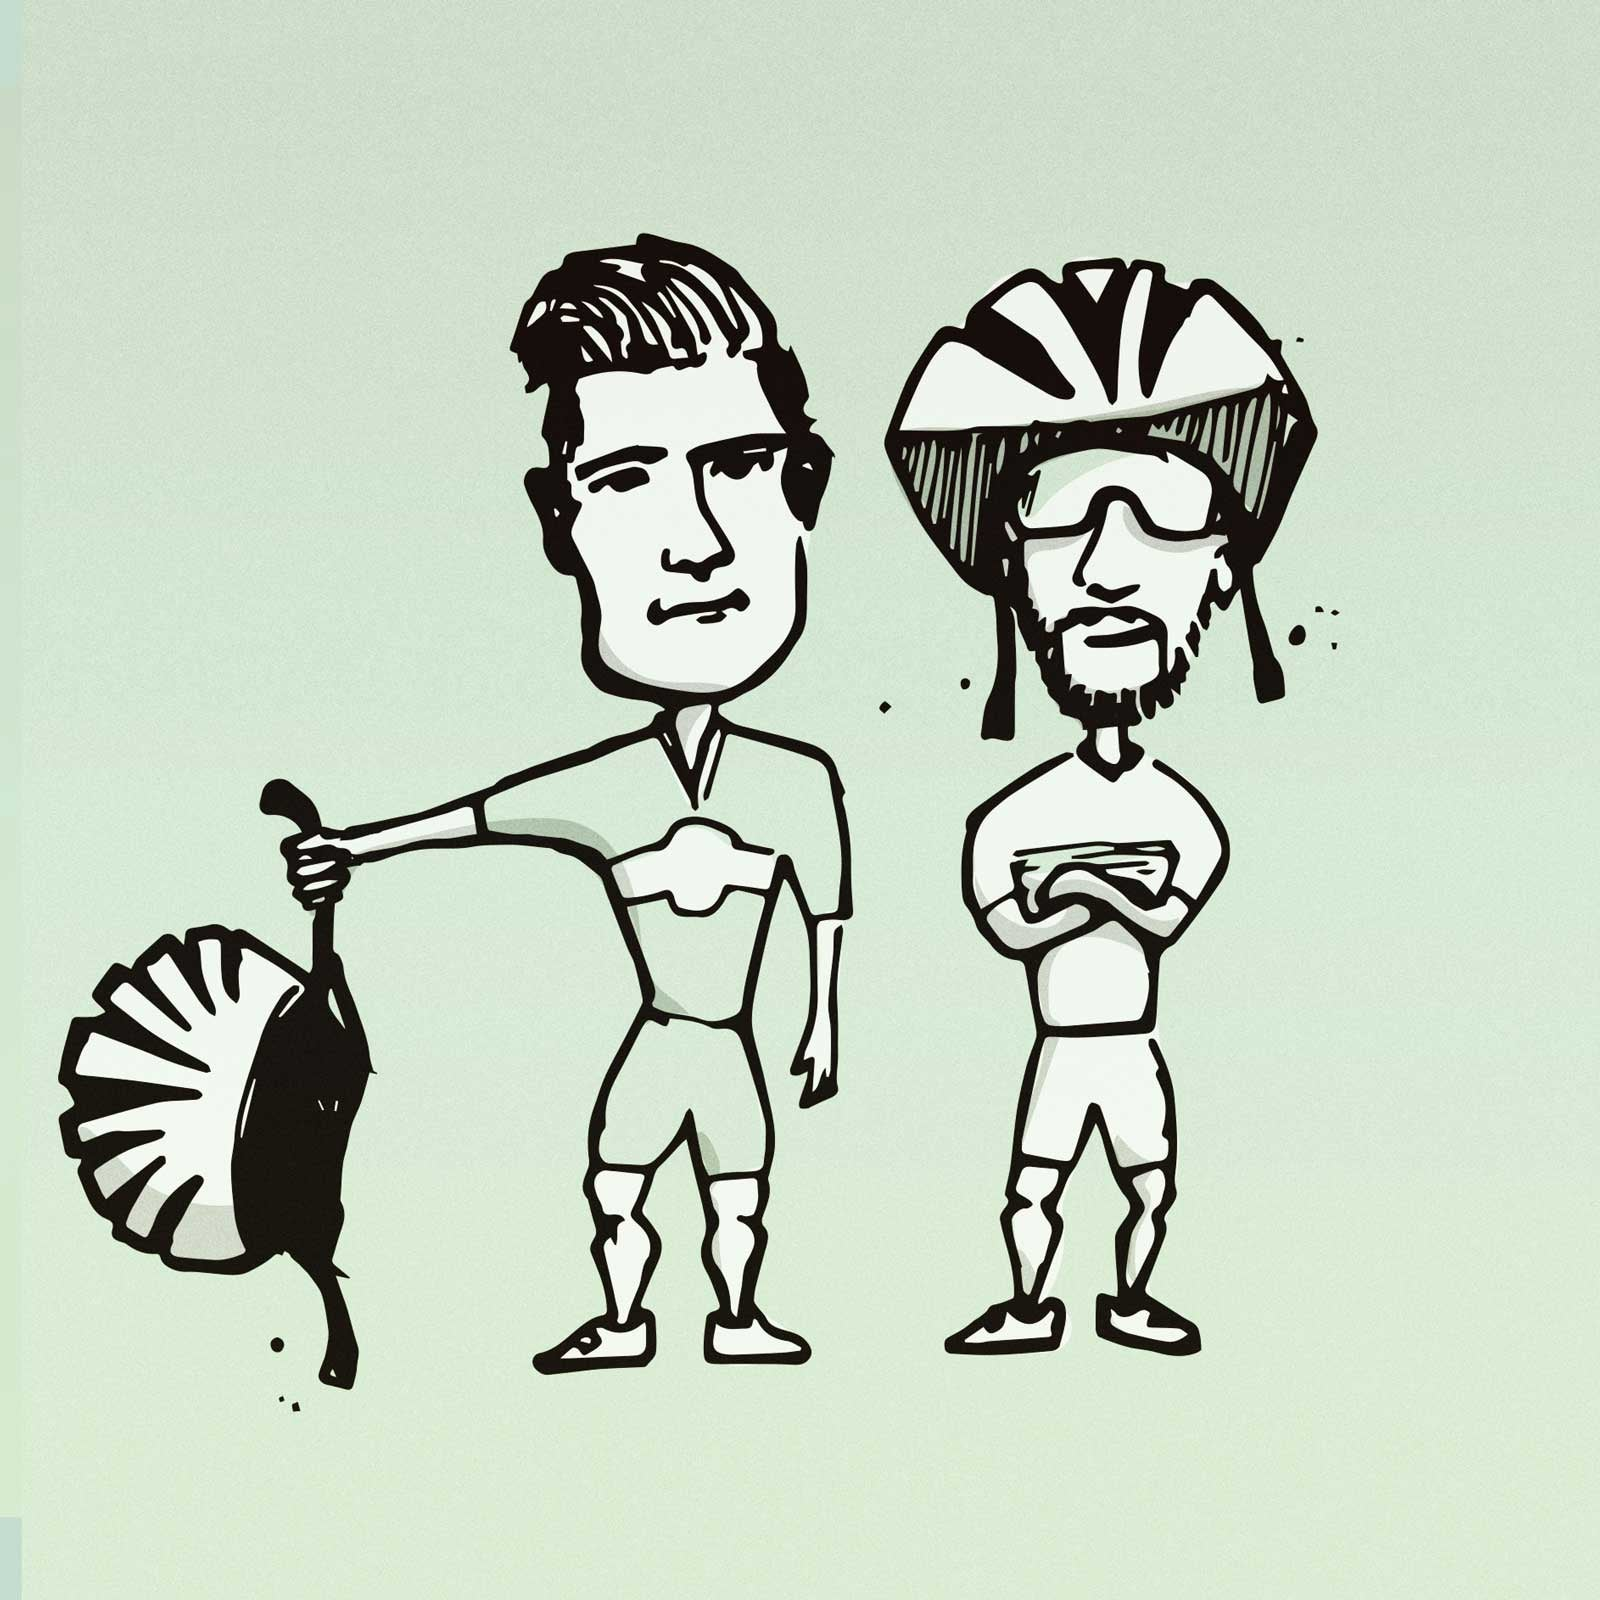helmet: (885, 259, 1319, 725)
